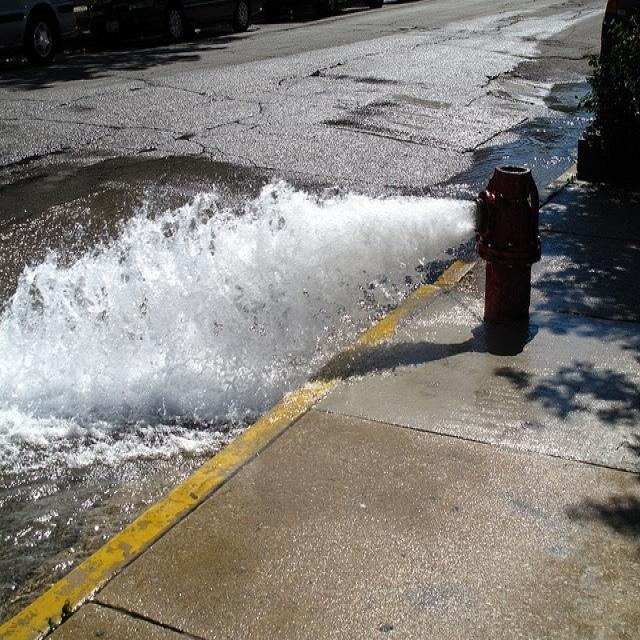fire_hydrant: (453, 129, 548, 438)
